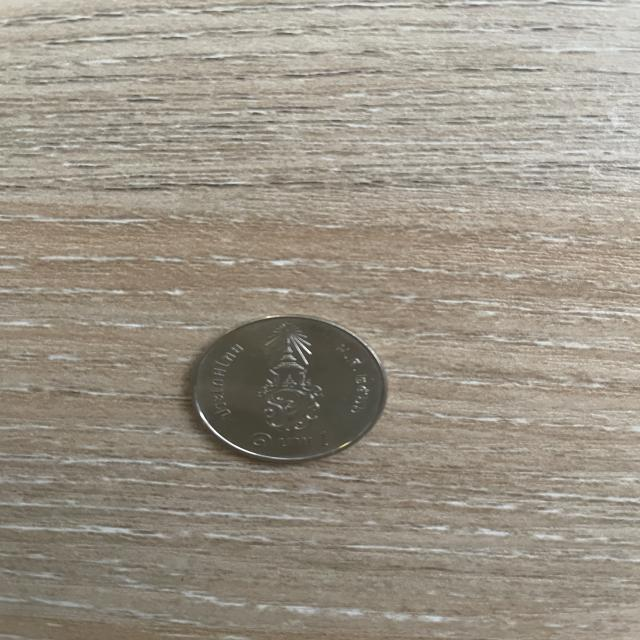1 Bath: (183, 309, 400, 471)
